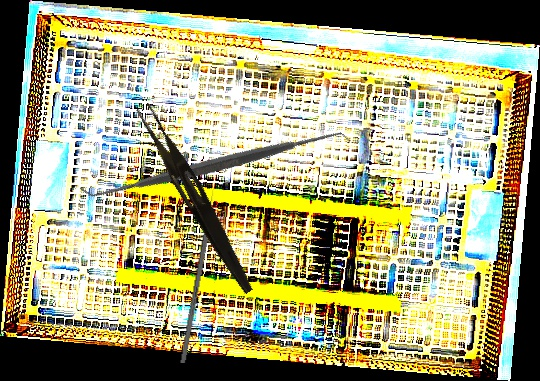Dressing Forceps: (129, 101, 263, 297)
Pusher: (180, 186, 217, 364)
Spatula Surgical: (78, 27, 352, 302)
